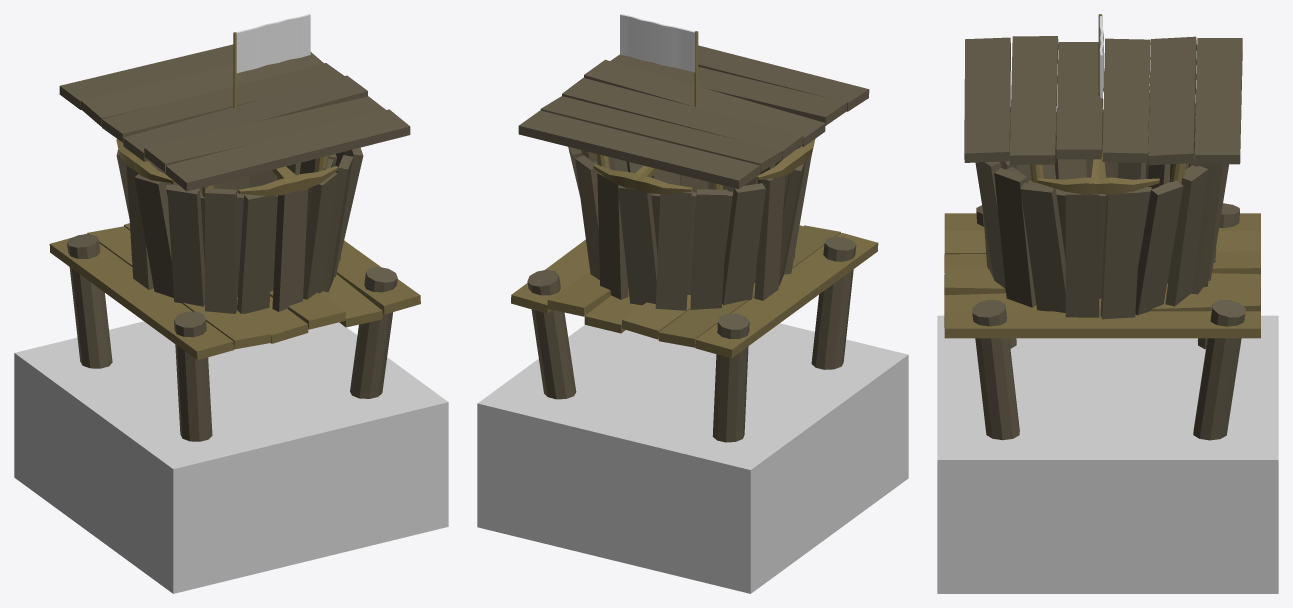
File: ArcherTowerLevel1V01.fbx
3 renders of one model, left to right at view 1: azimuth 30°, elevation 25°; view 2: azimuth 150°, elevation 25°; view 3: azimuth 270°, elevation 25°, orthographic. The views are drawn at different scales.
Visible parts, largest first — view 1: CompleteArcherTowerV01Combined; view 2: CompleteArcherTowerV01Combined; view 3: CompleteArcherTowerV01Combined.
Part boxes in pixels (left/top/right/bottom): CompleteArcherTowerV01Combined: left=14, top=14, right=448, bottom=593; CompleteArcherTowerV01Combined: left=477, top=14, right=908, bottom=593; CompleteArcherTowerV01Combined: left=937, top=14, right=1278, bottom=593.
Size of the model in its own units: 4 by 6.56 by 4.
